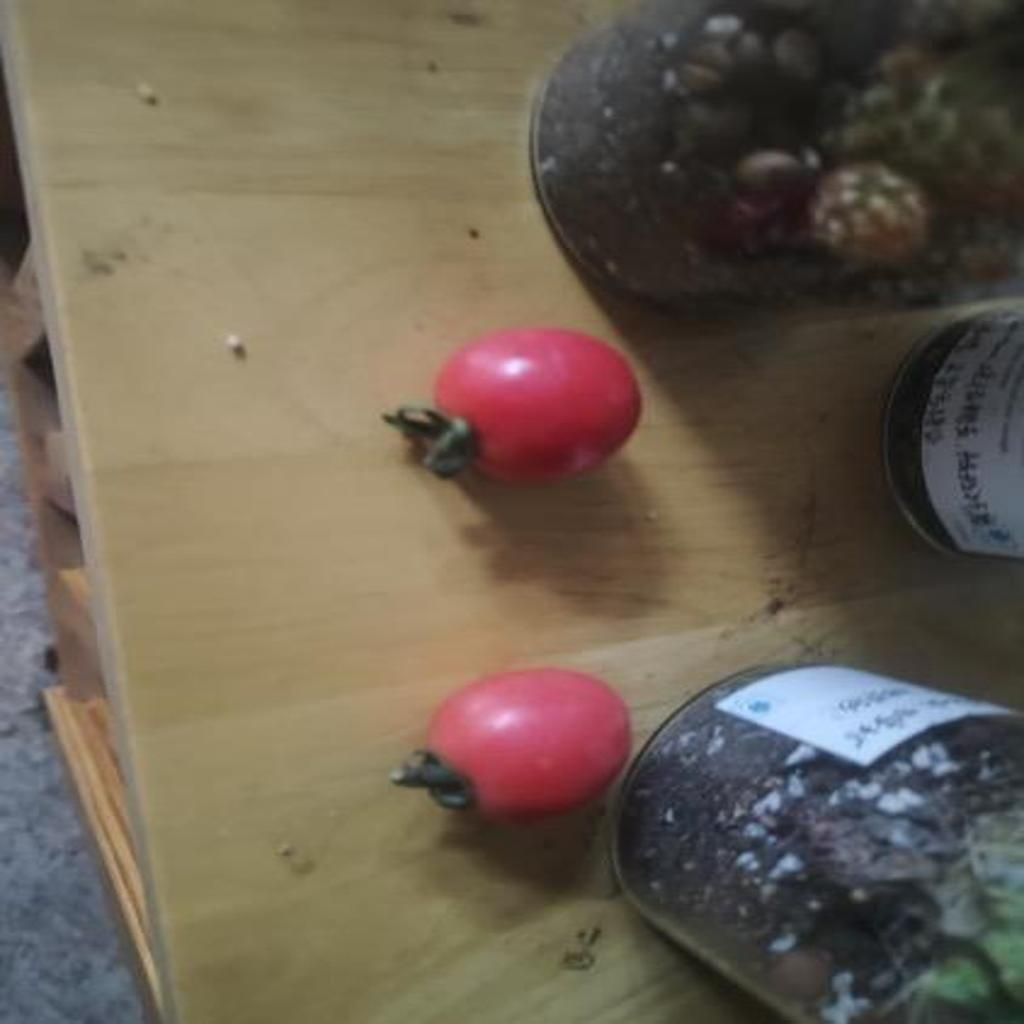tomato: (417, 332, 652, 480), (424, 682, 633, 812)
